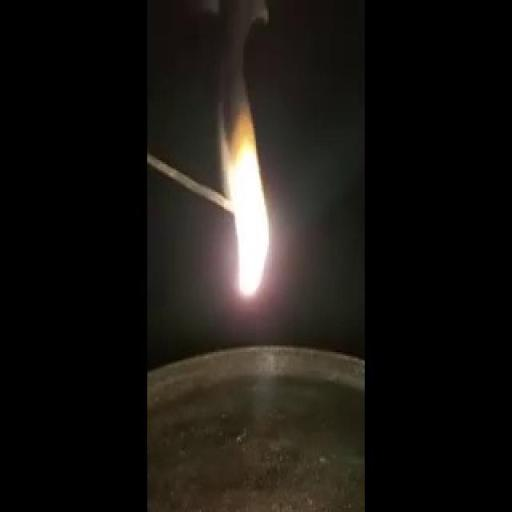smoke: (213, 59, 278, 302)
